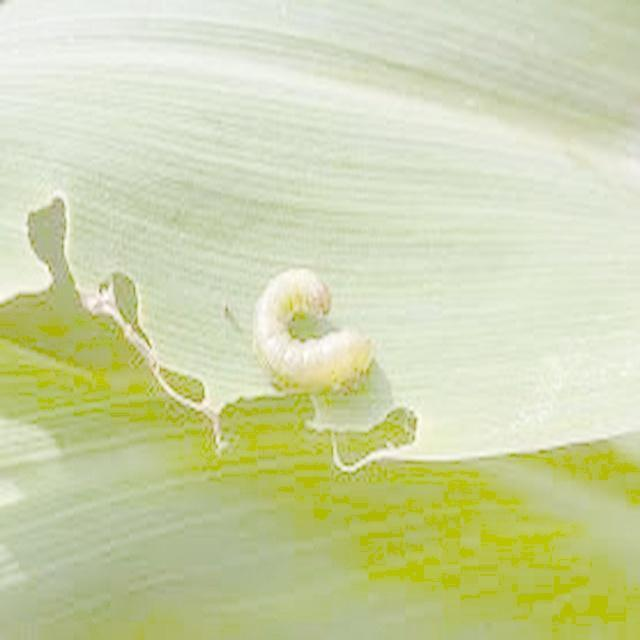gusano_cogollero: (248, 264, 378, 396)
